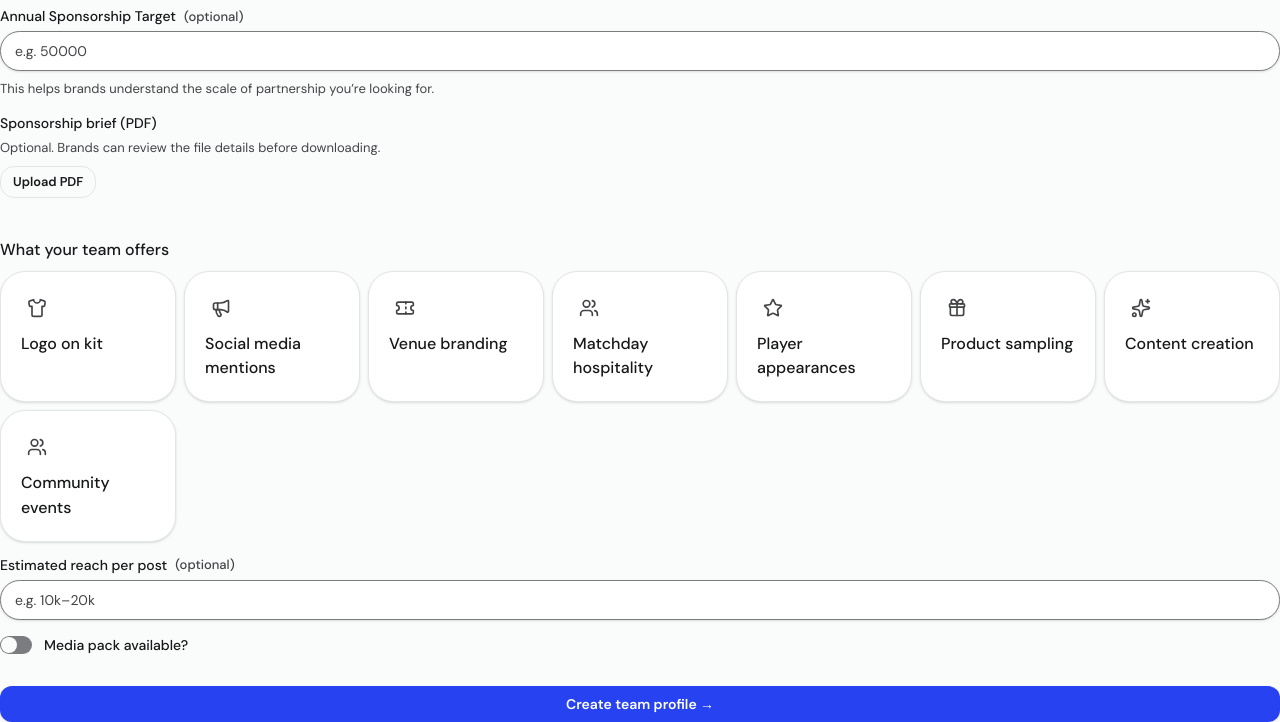
Scenario: TeamProfileForm (TM1) › blocks creation until team name, logo, and cover are provided
This screenshot has width=1280, height=722.
(page scrolled)
Click the button "Create team profile →" at (640, 704), box [0,686,1279,721]
(page scrolled)
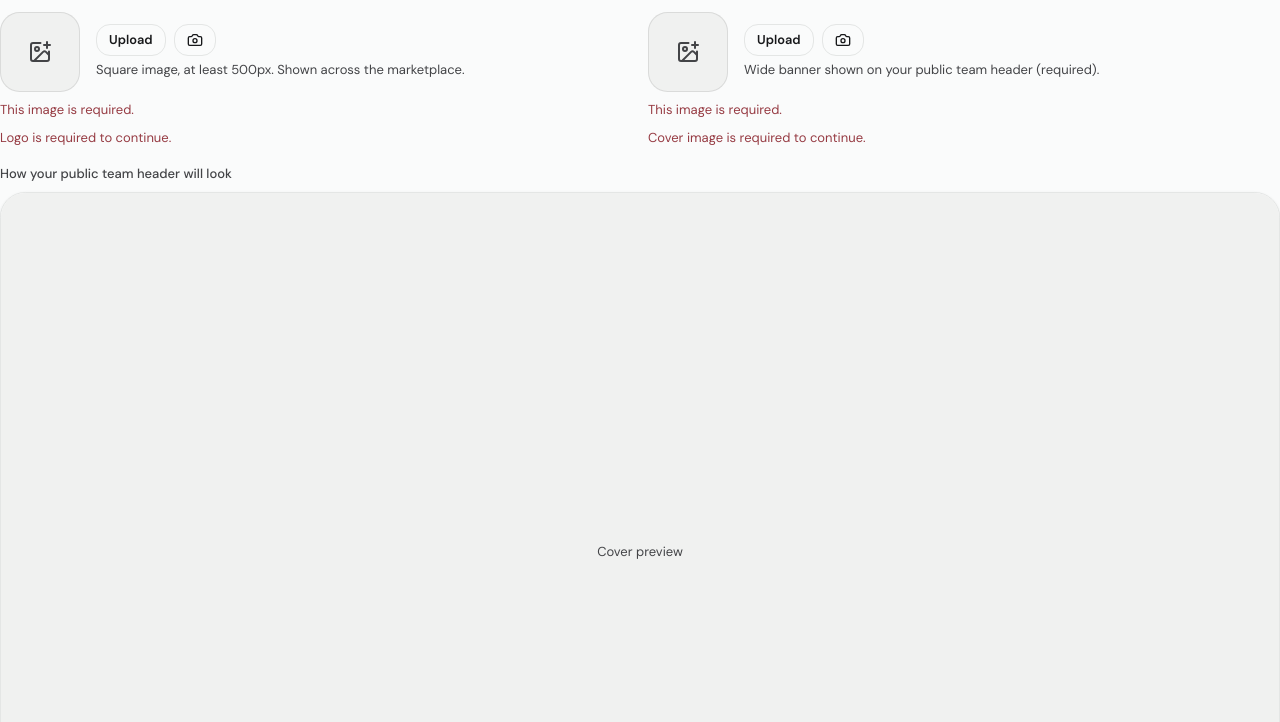
Check: the text "Logo is required to continue." is shown, box [0,129,171,146]
Check: the text "Cover image is required to continue." is shown, box [648,129,866,146]
